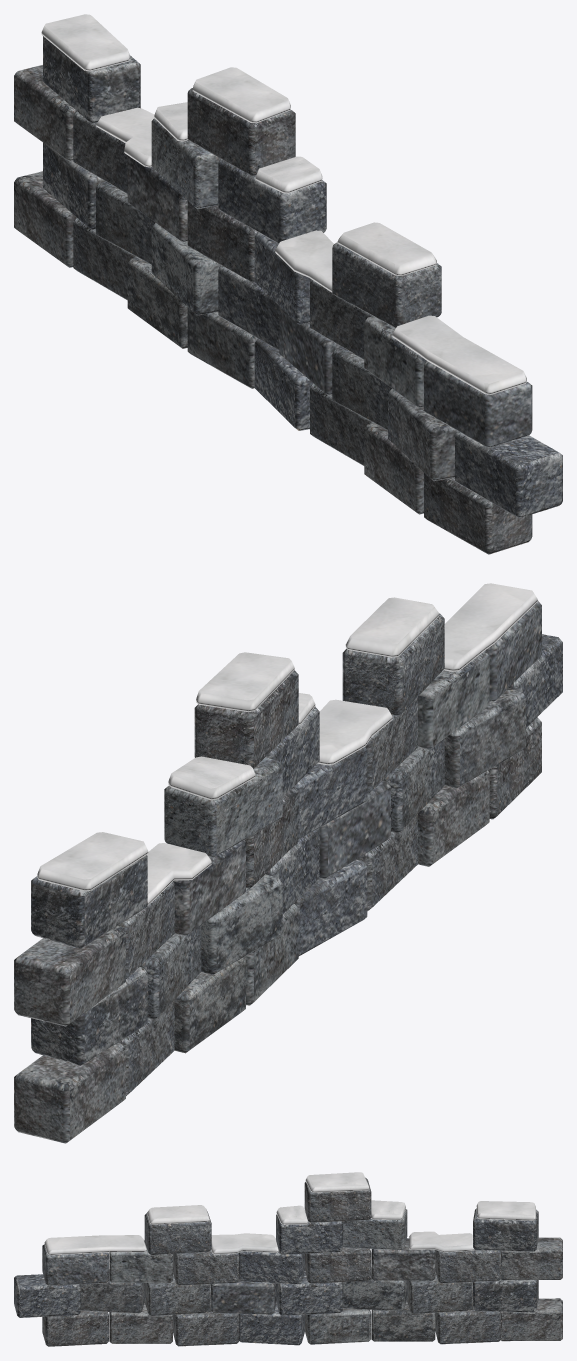
The model's file is StoneWallA_BSnow.fbx.
3 renders of one model, top to bottom at view 1: azimuth 30°, elevation 25°; view 2: azimuth 150°, elevation 25°; view 3: azimuth 270°, elevation 25°, orthographic. The views are drawn at different scales.
Visible parts, largest first — view 1: StoneWallA_BSnow; view 2: StoneWallA_BSnow; view 3: StoneWallA_BSnow.
Part boxes in pixels (x1,y1,x2,y2): StoneWallA_BSnow: [14, 14, 562, 554]; StoneWallA_BSnow: [14, 583, 562, 1143]; StoneWallA_BSnow: [14, 1172, 562, 1346].
Bounding box in the file's own units: 63.04 × 197 × 621.
